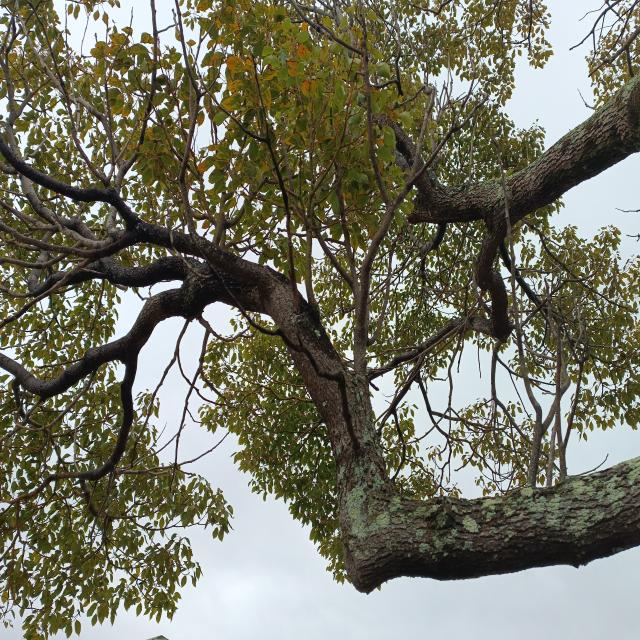Branch: (126, 217, 640, 594), (474, 76, 640, 240), (390, 125, 480, 223), (116, 288, 217, 362), (471, 236, 512, 340), (96, 255, 212, 290)
Twig: (354, 1, 455, 375), (11, 362, 137, 504), (0, 133, 146, 225), (310, 161, 360, 299), (0, 341, 120, 397), (5, 256, 87, 320), (0, 221, 140, 258)
